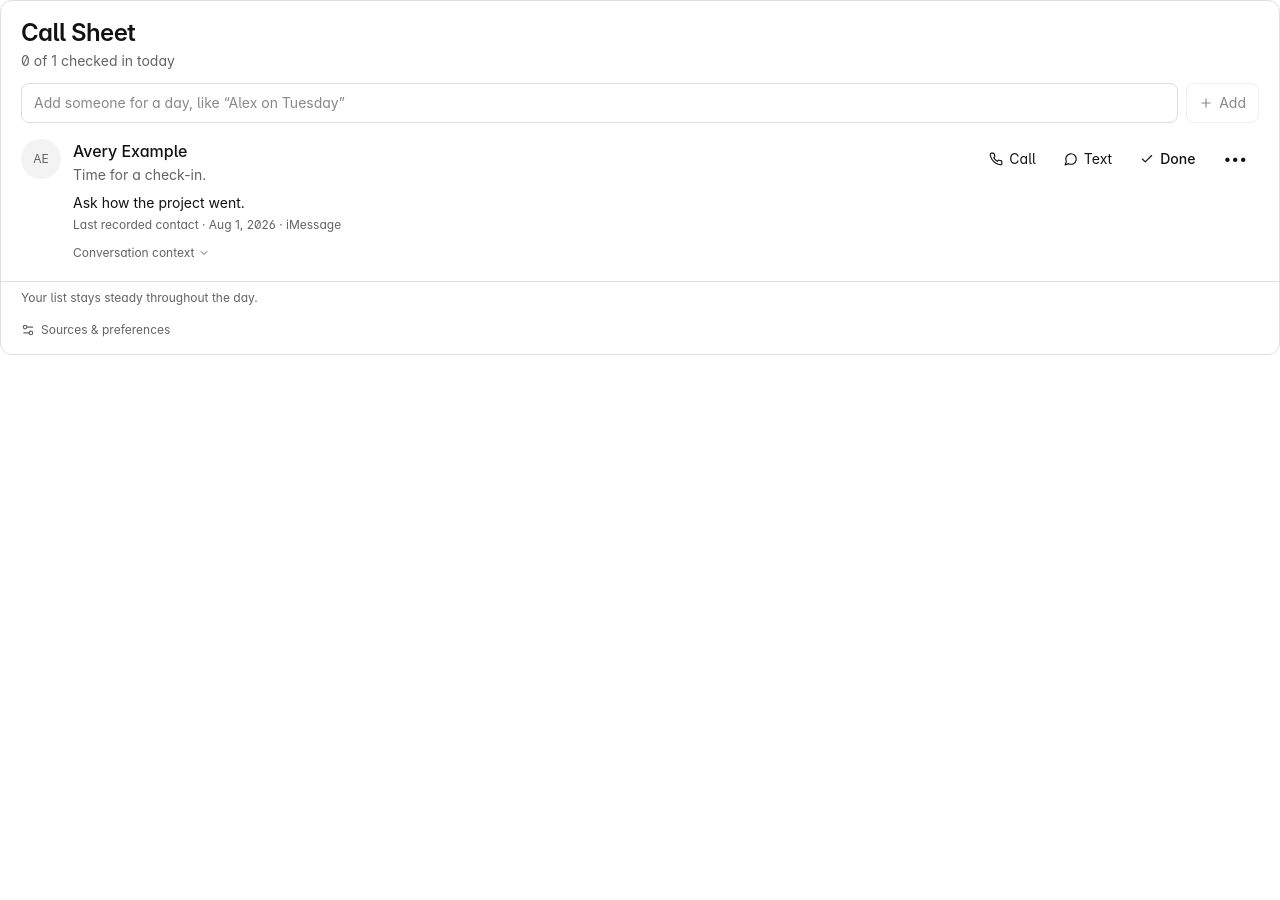
Test: daily call sheet › sends WhatsApp and keeps the choice available after a save failure
Click the button "Done".
click(1168, 159)  # box top-left (1128, 139), bottom-right (1207, 179)
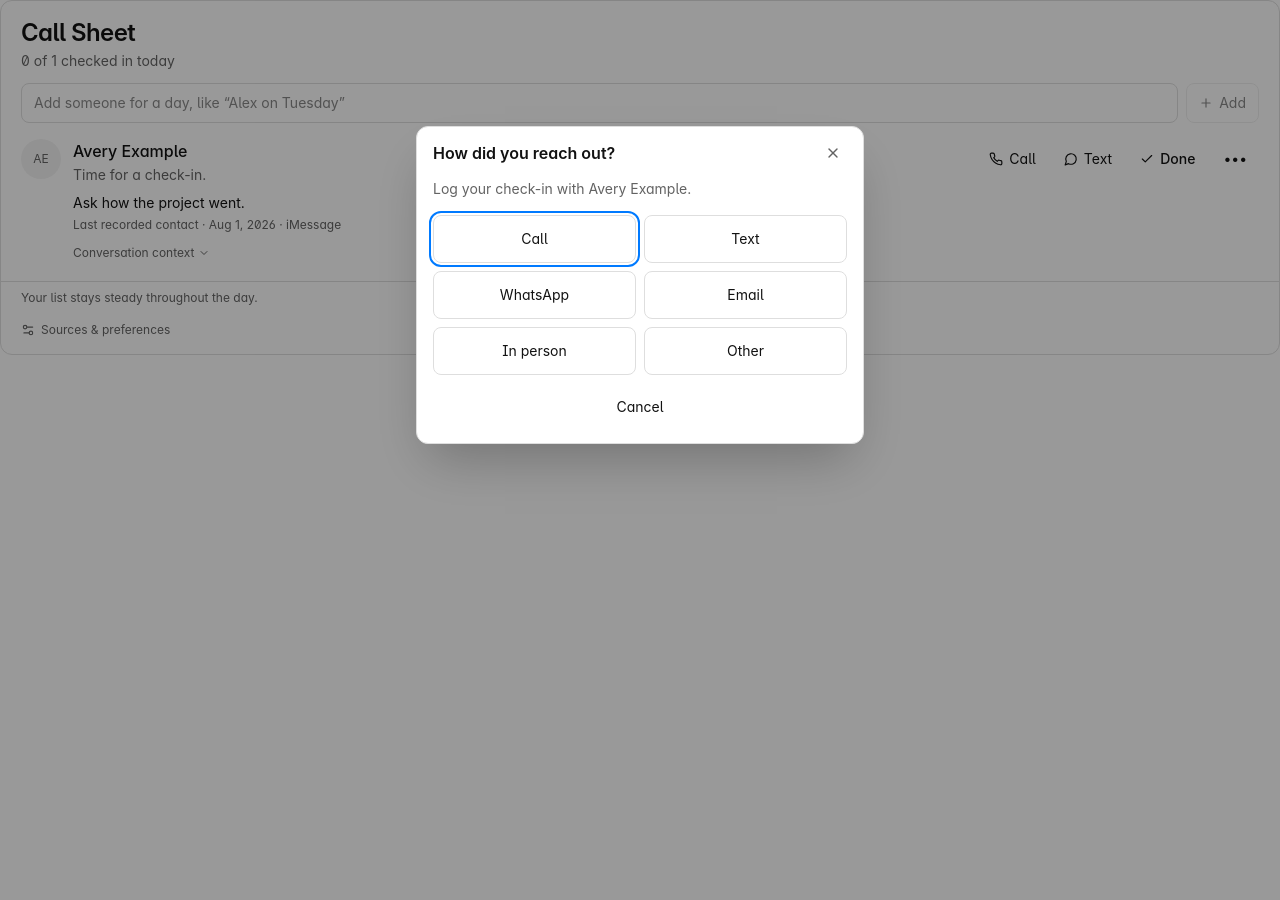
Click the button "WhatsApp".
click(534, 295)  # box top-left (433, 271), bottom-right (636, 319)
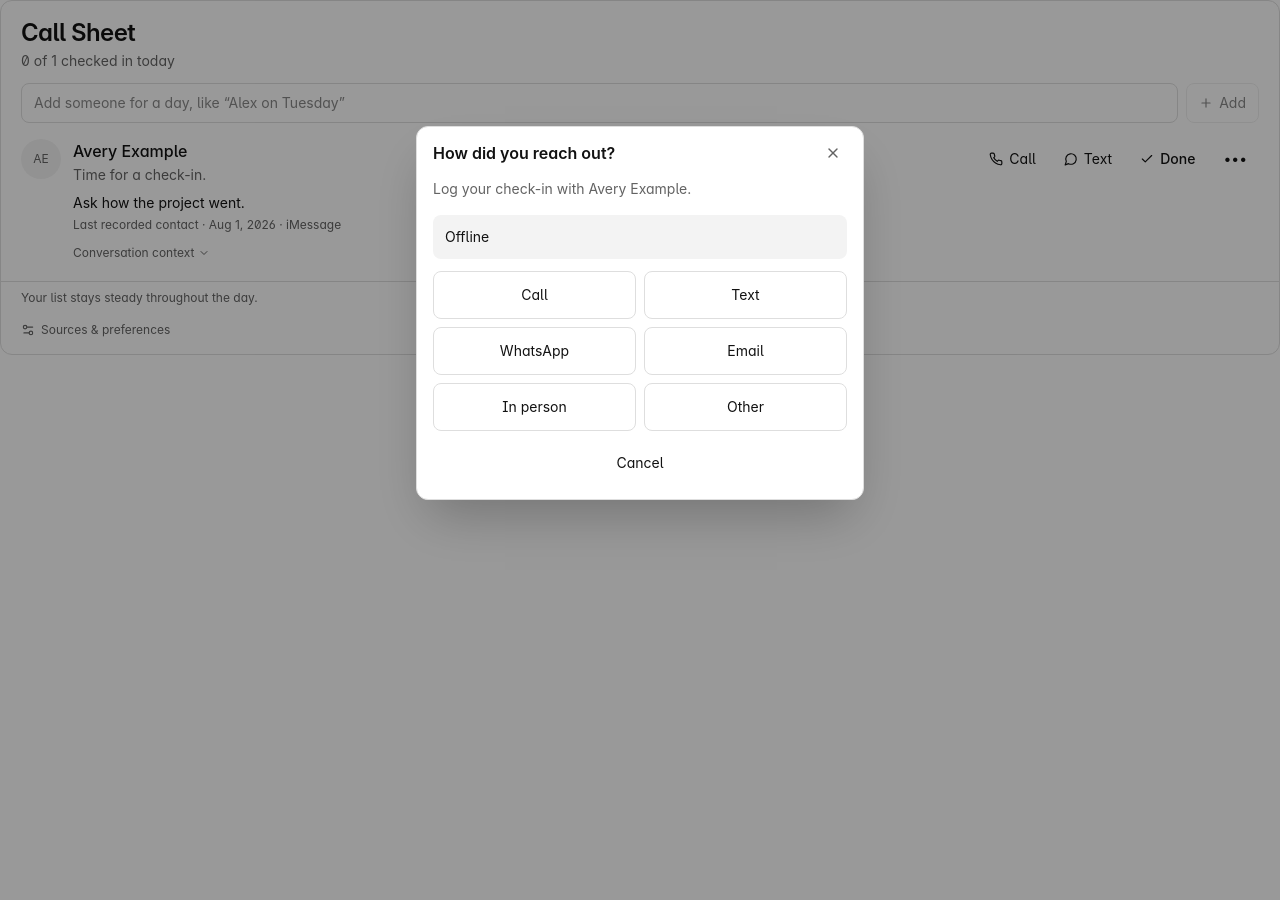
Check: the message "Offline" is shown, box top-left (433, 215), bottom-right (847, 259)
Click the button "WhatsApp".
click(534, 351)  # box top-left (433, 327), bottom-right (636, 375)
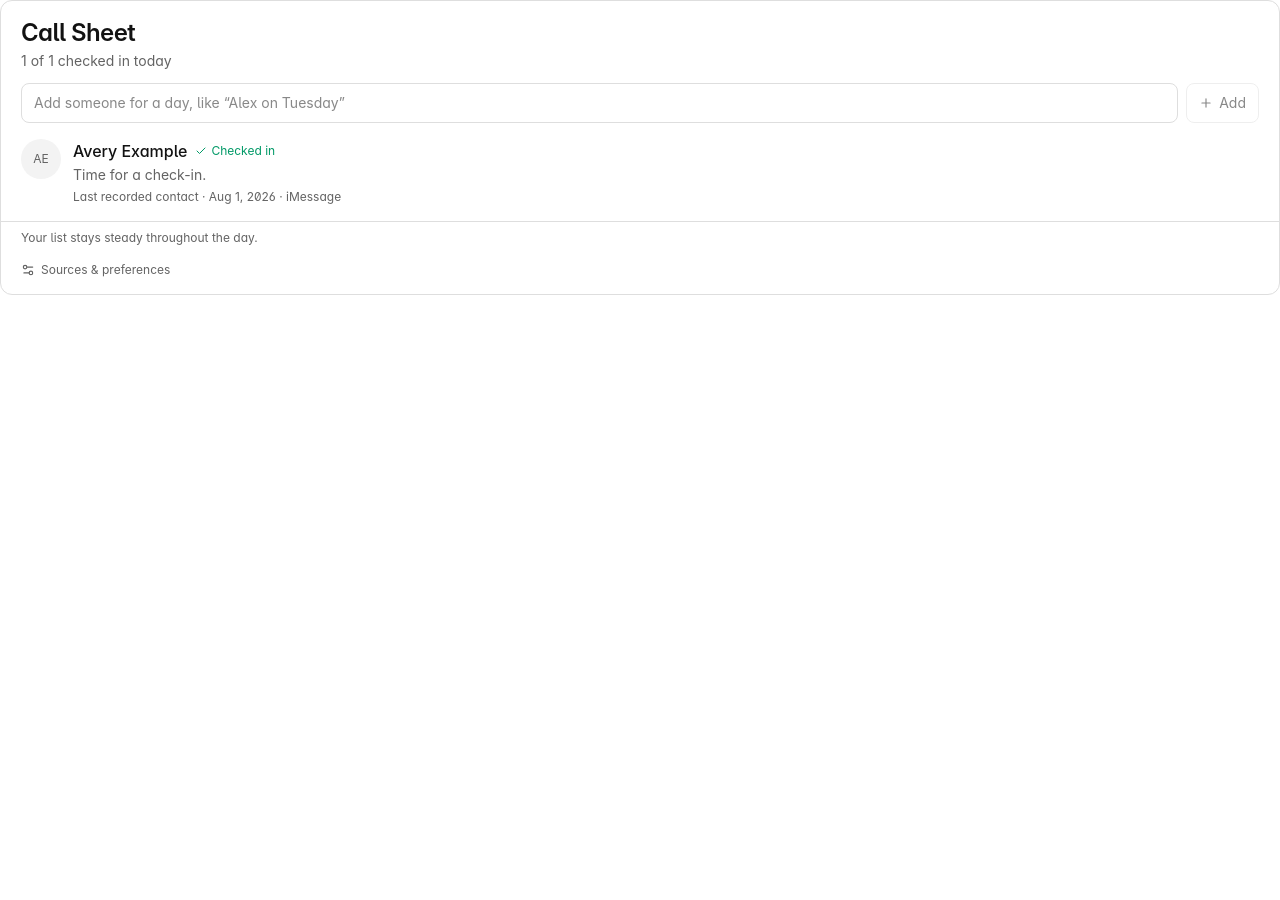
Check: the dialog is gone
Check: the text "1 of 1 checked in" is shown, box top-left (21, 52), bottom-right (172, 69)
